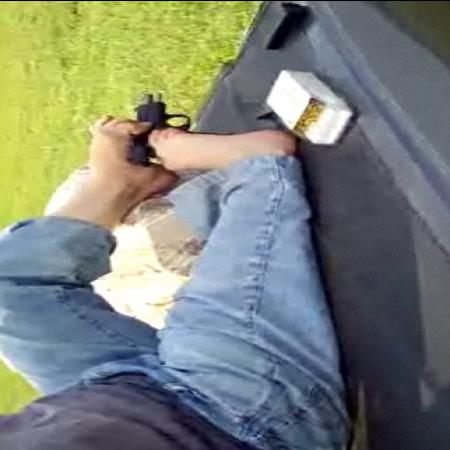Pistol: (123, 91, 232, 165)
